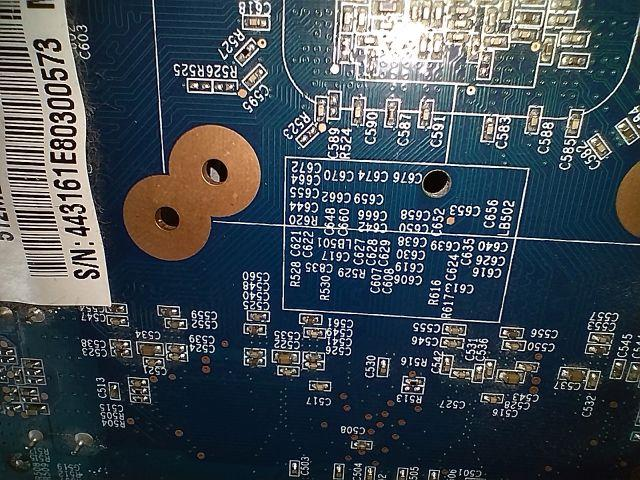capacitor: (328, 437, 381, 454), (382, 95, 407, 128), (243, 70, 275, 93), (88, 378, 120, 400), (143, 305, 188, 320), (328, 7, 353, 34), (553, 54, 593, 70), (446, 30, 478, 50), (322, 91, 345, 118), (244, 14, 275, 34), (524, 101, 545, 130), (560, 368, 585, 391), (493, 328, 528, 344), (415, 104, 433, 135), (367, 362, 392, 384), (292, 363, 328, 378), (239, 321, 269, 339), (502, 344, 535, 360), (569, 105, 585, 137), (589, 326, 617, 344), (298, 382, 334, 396), (565, 31, 591, 50), (479, 389, 504, 408), (487, 32, 510, 52), (374, 1, 402, 17), (547, 16, 584, 28), (426, 36, 442, 63), (353, 96, 366, 129), (441, 338, 464, 356), (481, 119, 501, 139), (446, 1, 471, 17), (426, 462, 448, 480), (158, 317, 190, 329), (583, 369, 598, 394), (349, 10, 365, 33), (242, 349, 274, 360), (287, 456, 301, 480), (331, 457, 345, 480), (295, 330, 330, 339), (242, 309, 272, 319), (358, 465, 378, 480), (106, 315, 130, 327), (418, 35, 428, 62), (439, 325, 461, 336), (300, 352, 329, 360), (360, 36, 381, 46)
resistor: (122, 396, 158, 407), (124, 388, 157, 397)
